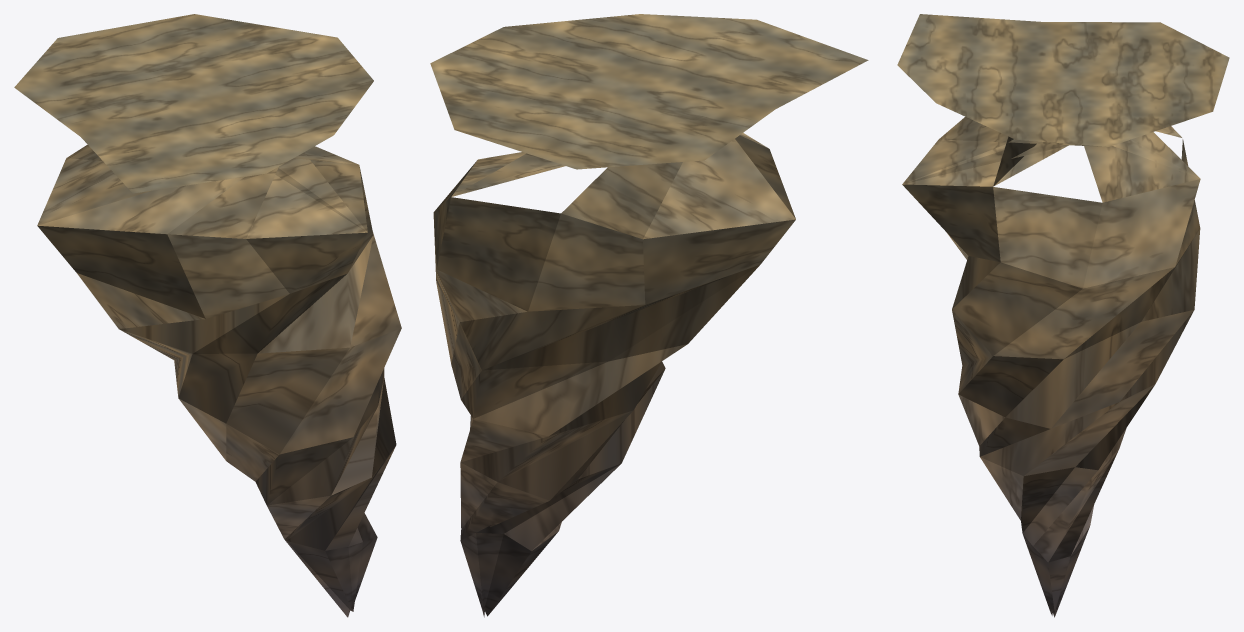
Rendered from hanging_crag_sky_a.glb.
The picture shows the model from 3 angles, left to right: view 1: azimuth 30°, elevation 25°; view 2: azimuth 150°, elevation 25°; view 3: azimuth 270°, elevation 25°; orthographic projection. The views are drawn at different scales.
Parts seen in each view (by area): view 1: hanging_crag_sky_a; view 2: hanging_crag_sky_a; view 3: hanging_crag_sky_a.
Part boxes in pixels (x1,y1,x2,y2): hanging_crag_sky_a: [14, 14, 401, 617]; hanging_crag_sky_a: [430, 14, 868, 617]; hanging_crag_sky_a: [897, 14, 1229, 617].
Size of the model in its own units: 4.36 by 6.63 by 4.16.
1 material, 1 textured.
